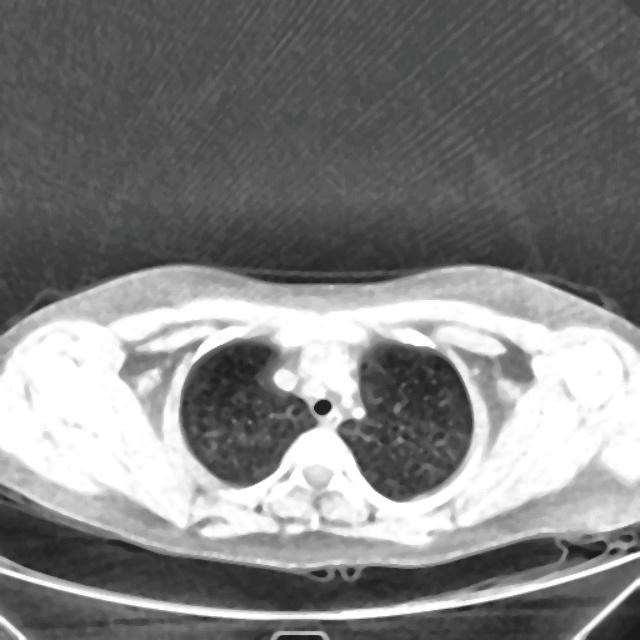covid: (0, 261, 639, 582)
